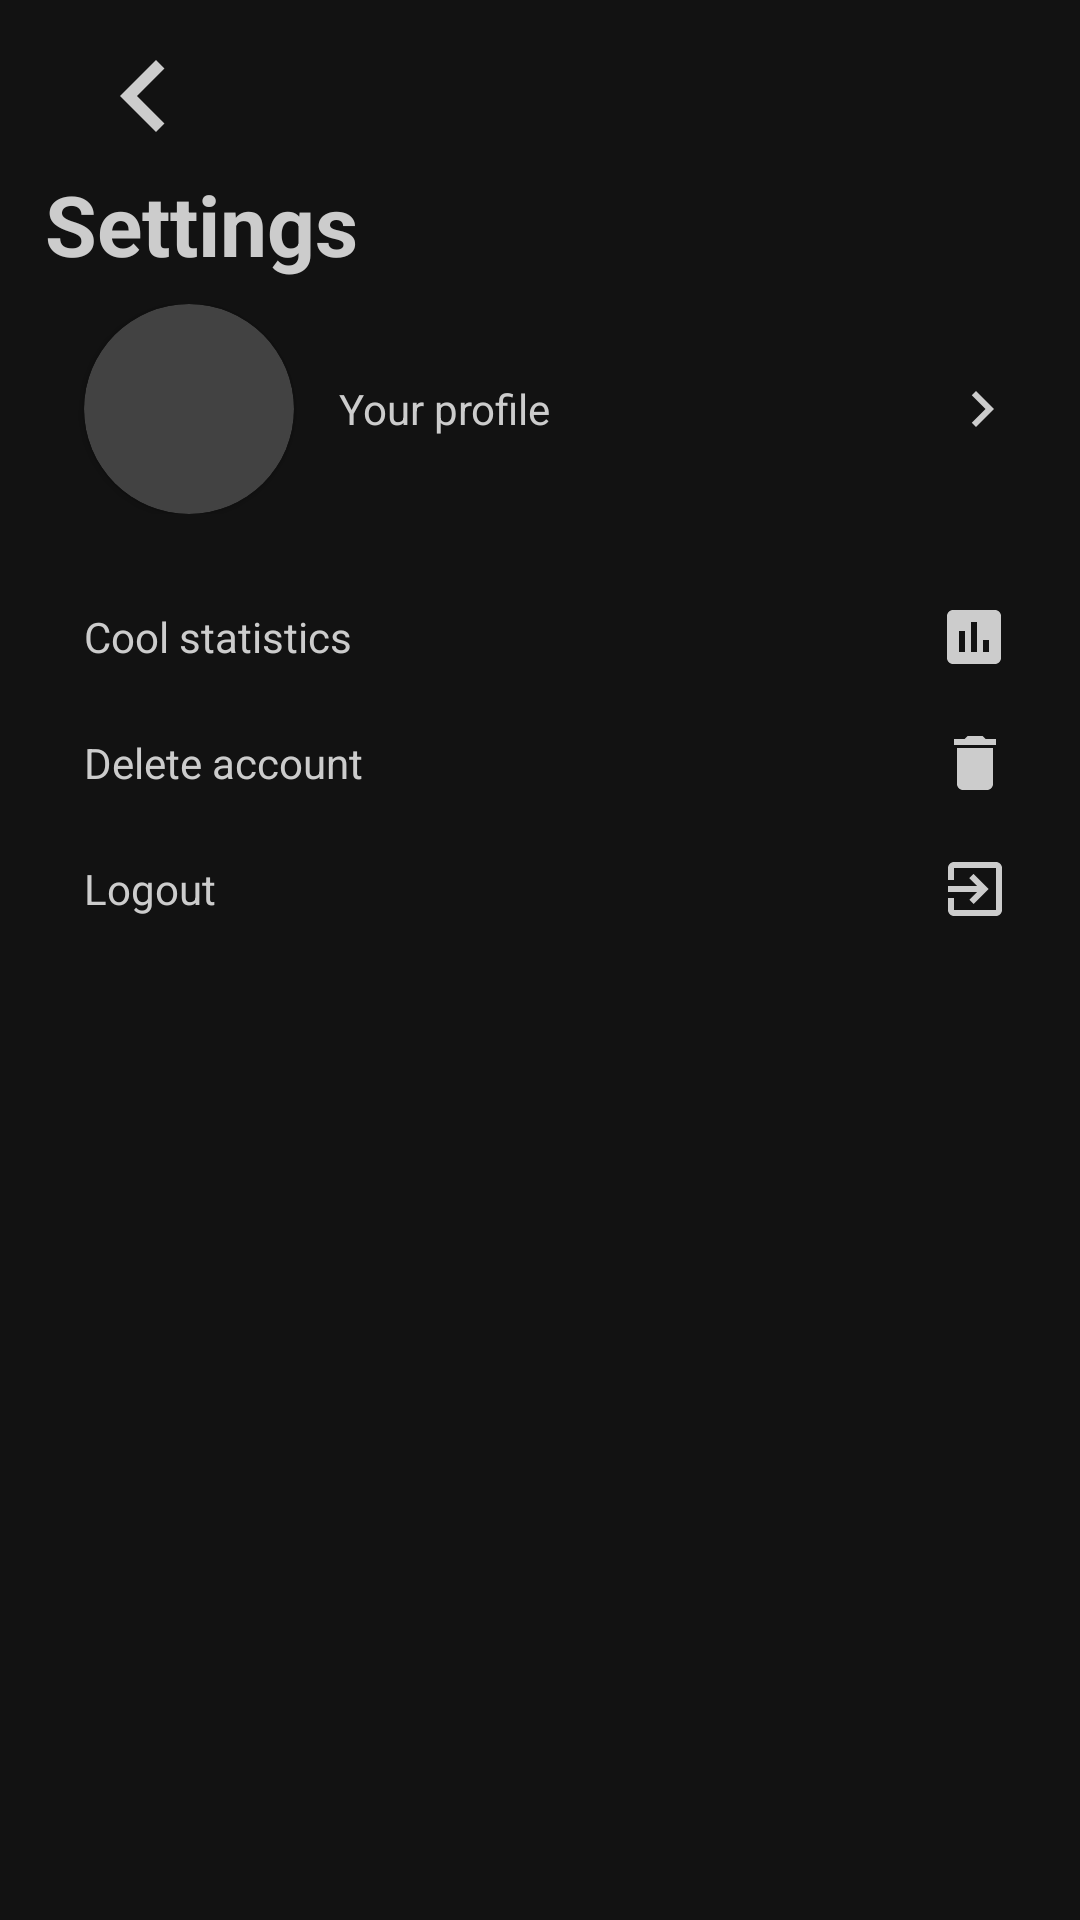

Icons on this 1080px x 1920px Android screen, each with the point to tap as (x=x, y=y):
back arrow: (x=142, y=96)
chart: (x=974, y=637)
exit: (x=975, y=889)
forward arrow: (x=983, y=409)
